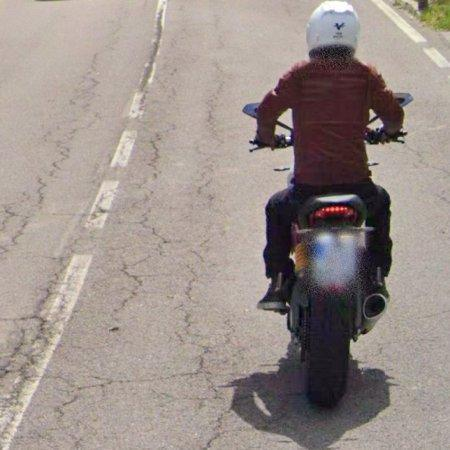motorcycles: (289, 195, 390, 408), (366, 126, 409, 144), (275, 121, 294, 148), (396, 92, 415, 107), (250, 140, 270, 152), (243, 104, 260, 118), (367, 117, 380, 125)
